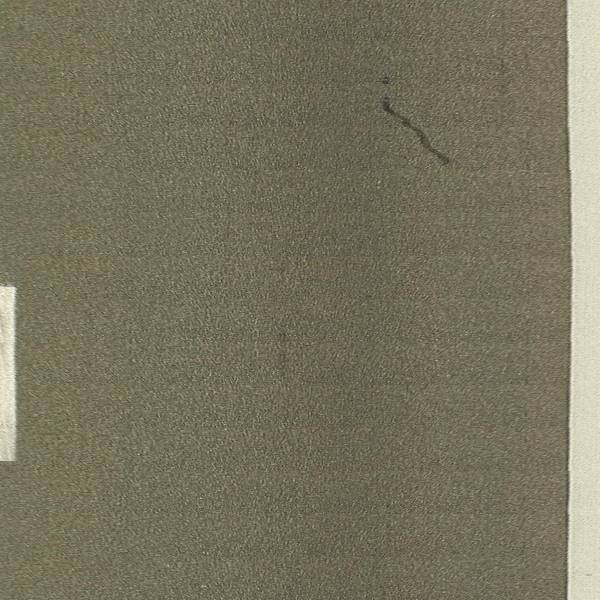road_damage: (379, 90, 457, 172)
